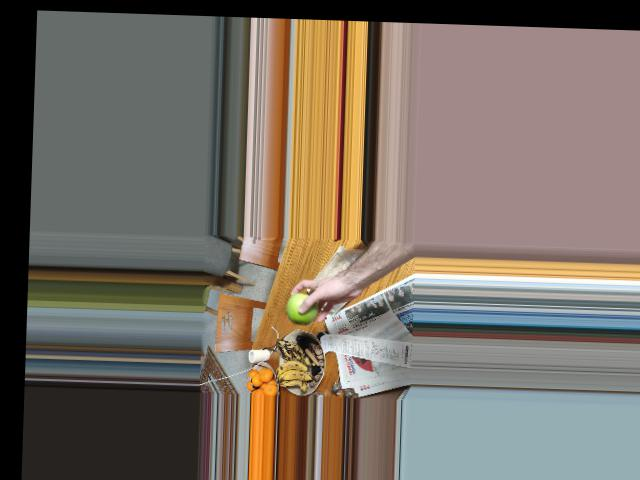apple: (285, 292, 321, 325)
